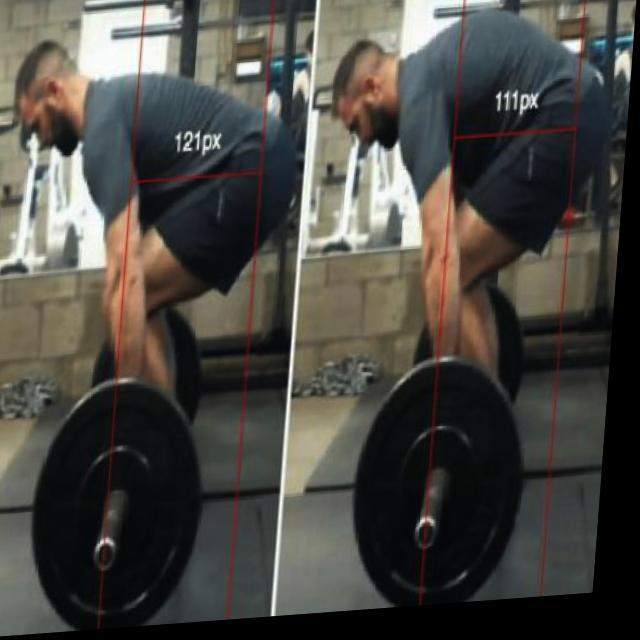barbell: (349, 356, 545, 618), (30, 370, 222, 637)
